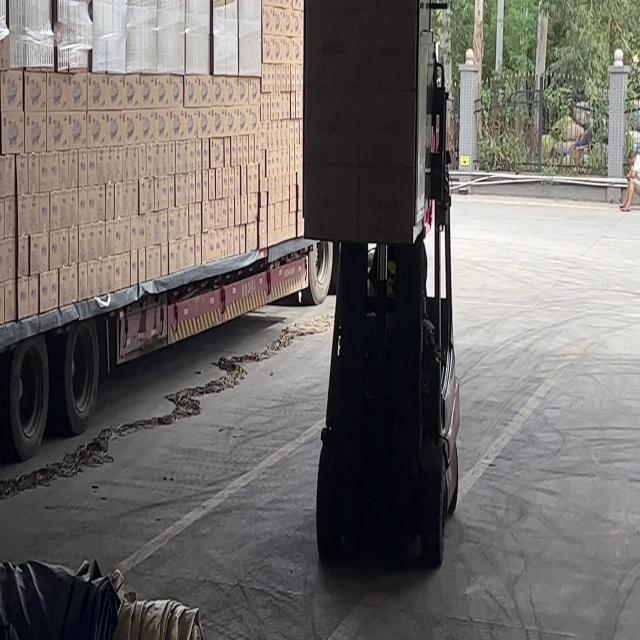forklift: (332, 229, 464, 574), (619, 146, 640, 212)
